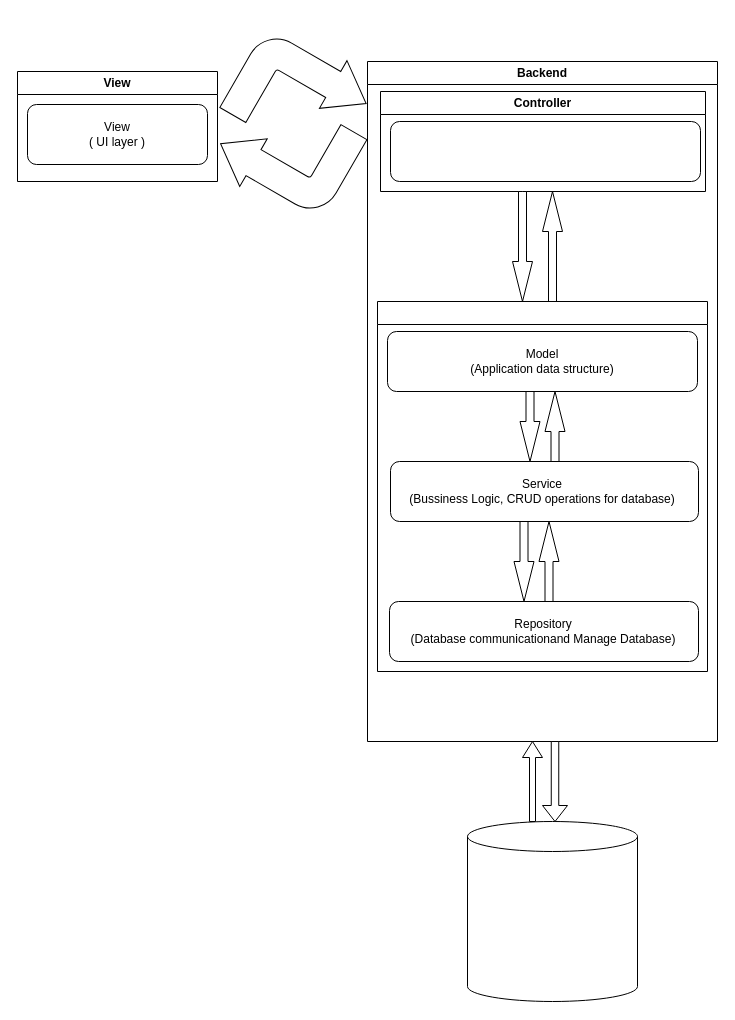
Image size: 735x1020. Some labels were removed from this diagram. Each missing label, with the centre of its shape:
Controller (HTTP request handle): the point at 545,151
Model: the point at 542,486
PostgreSQL Database (Persistent storage): the point at 552,911
